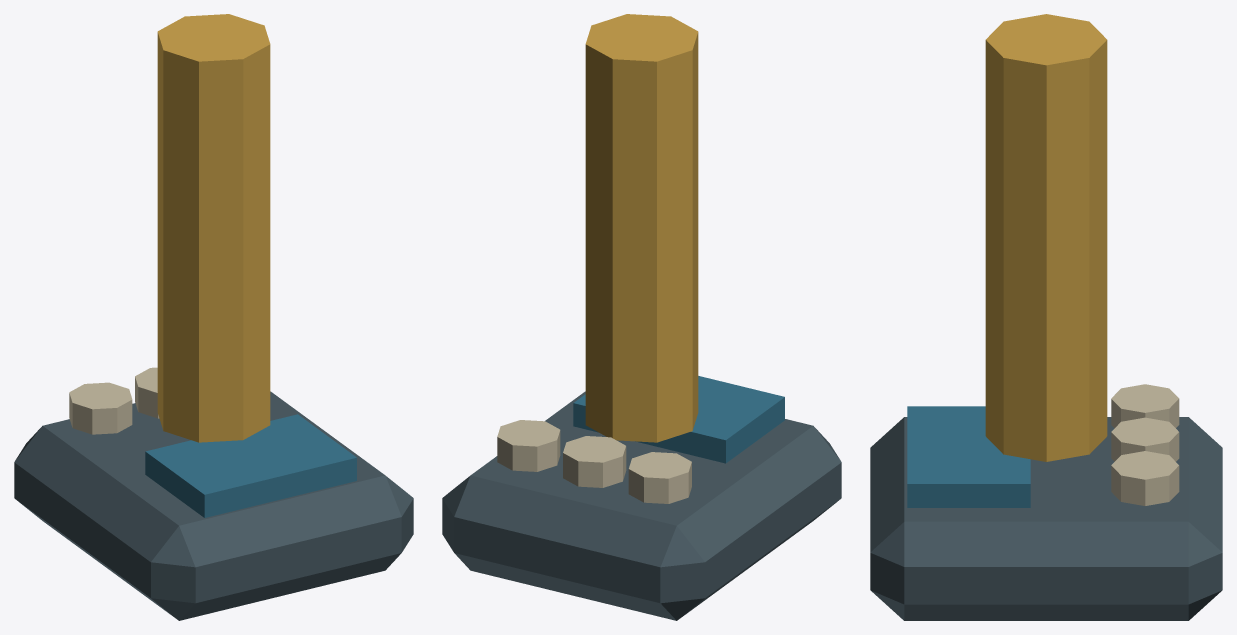
The model's file is set_bunsen_burner.glb.
3 views of the same model, side by side, from view 1: azimuth 30°, elevation 25°; view 2: azimuth 150°, elevation 25°; view 3: azimuth 270°, elevation 25° (orthographic). The views are drawn at different scales.
Parts seen in each view (by area): view 1: set_bunsen_burner; view 2: set_bunsen_burner; view 3: set_bunsen_burner.
Part boxes in pixels (bbox=[...]): set_bunsen_burner: bbox=[14, 14, 413, 620]; set_bunsen_burner: bbox=[442, 14, 841, 620]; set_bunsen_burner: bbox=[870, 14, 1222, 620].
Bounding box in the file's own units: 0.13 × 0.24 × 0.145.
